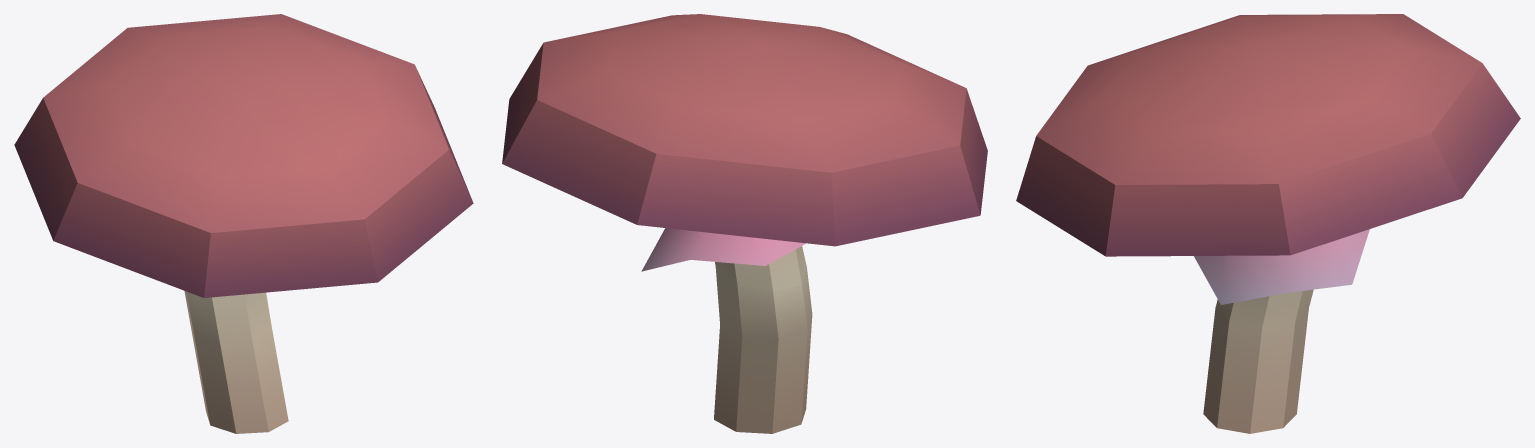
3 views of the same model, side by side, from view 1: azimuth 30°, elevation 25°; view 2: azimuth 150°, elevation 25°; view 3: azimuth 270°, elevation 25° (orthographic). The views are drawn at different scales.
Visible parts, largest first — view 1: Cylinder_3; view 2: Cylinder_3; view 3: Cylinder_3.
Boxes of the visible parts, x1,y1,x2,y2 form: Cylinder_3: [14, 14, 473, 433]; Cylinder_3: [502, 14, 987, 433]; Cylinder_3: [1016, 14, 1520, 433].
Bounding box in the file's own units: 181 × 145 × 180.
